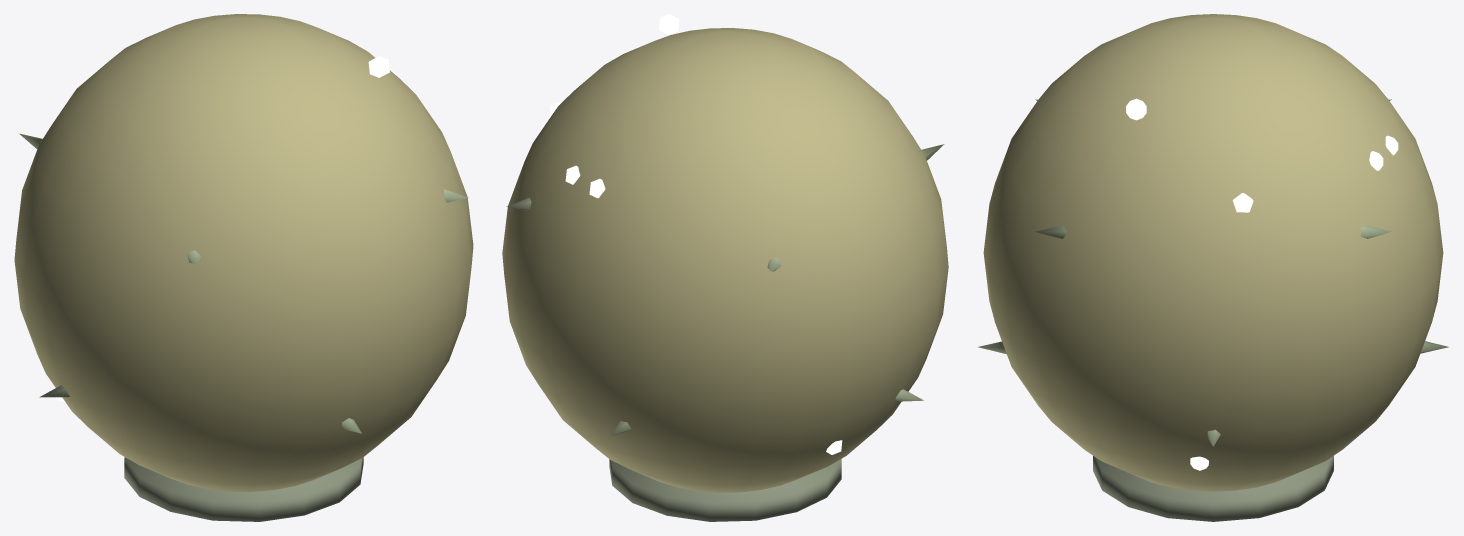
Rendered from egg_prehistoric_00.glb.
3 renders of one model, left to right at view 1: azimuth 30°, elevation 25°; view 2: azimuth 150°, elevation 25°; view 3: azimuth 270°, elevation 25°, orthographic. The views are drawn at different scales.
Visible parts, largest first — view 1: ball; view 2: ball; view 3: ball.
Boxes of the visible parts, x1=… form: ball: x1=14, y1=14, x2=473, y2=521; ball: x1=502, y1=14, x2=948, y2=521; ball: x1=978, y1=14, x2=1448, y2=521.
Size of the model in its own units: 0.863 by 0.88 by 0.863.
